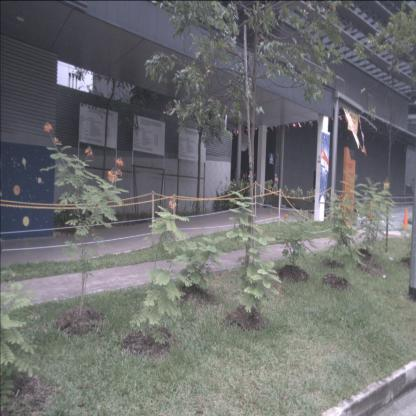cone: (401, 206, 409, 232), (366, 200, 374, 222)
